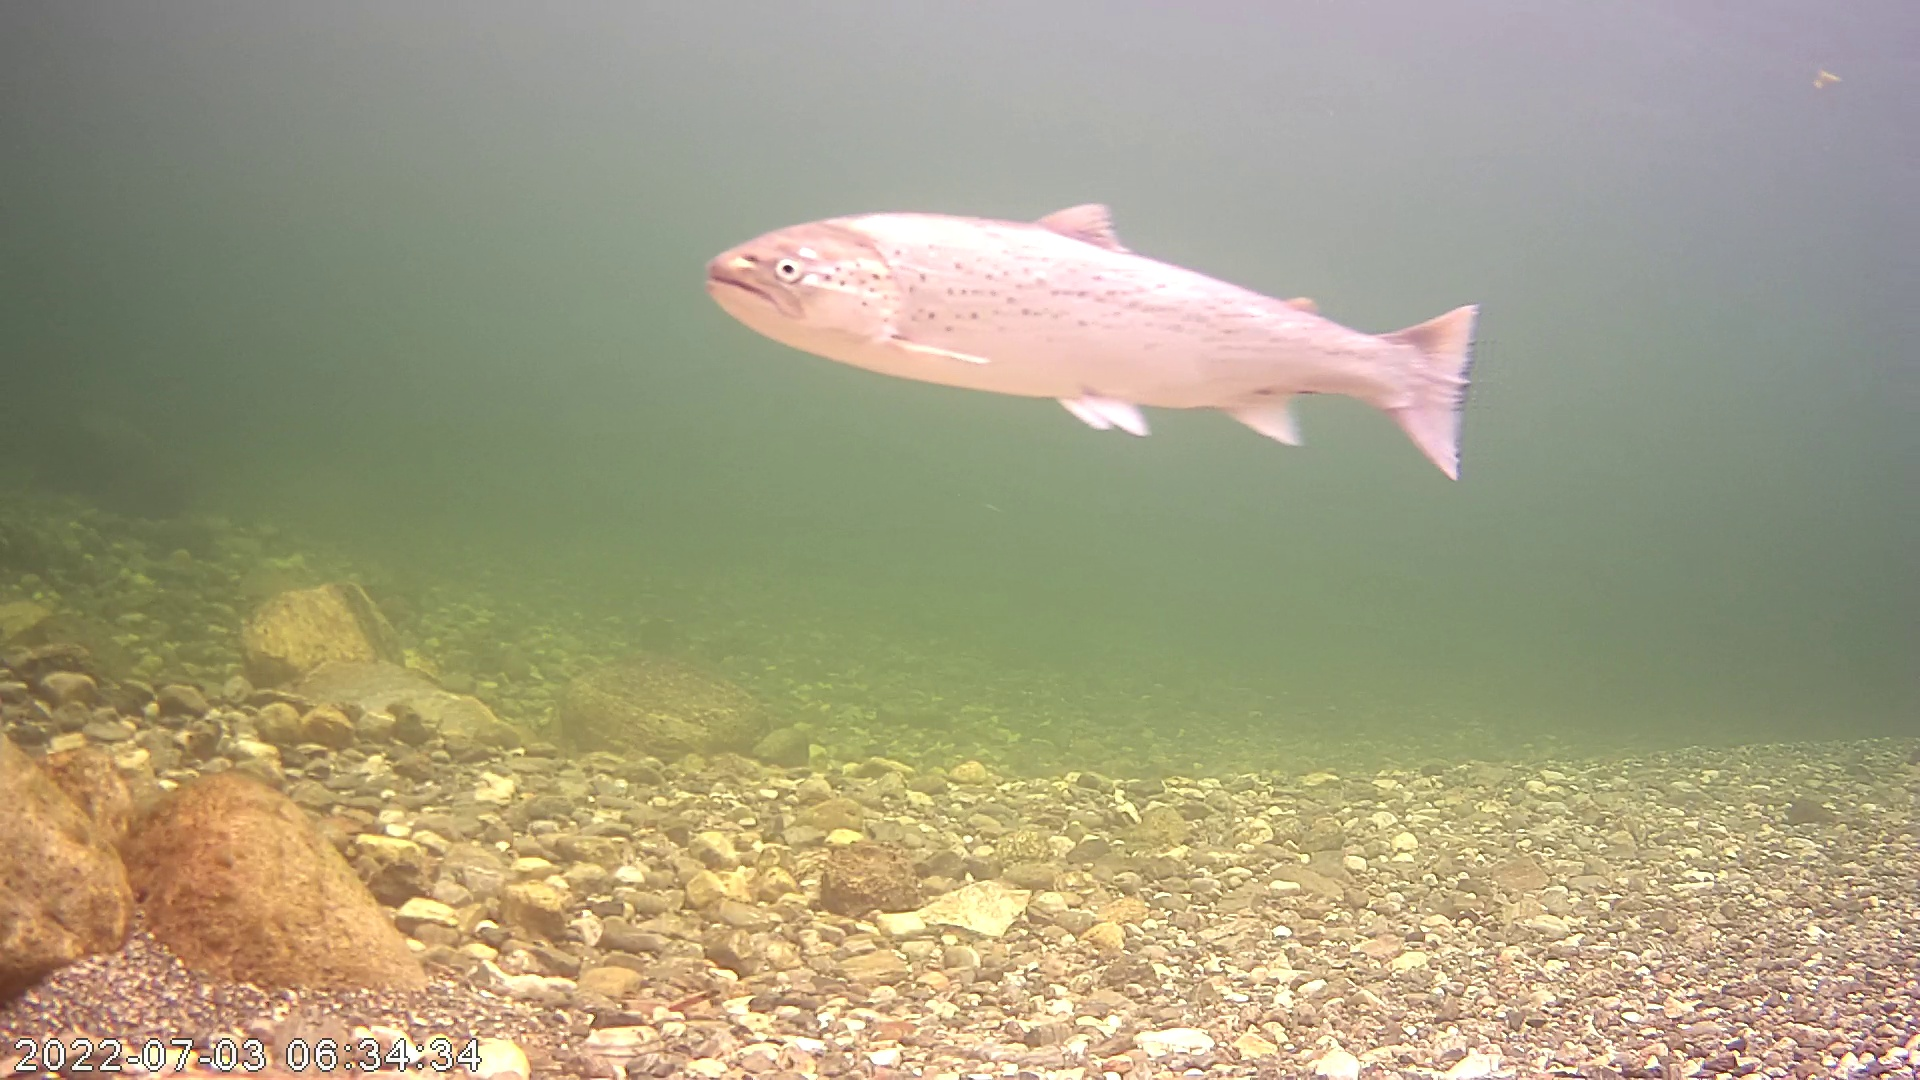salmon: (700, 200, 1484, 484)
